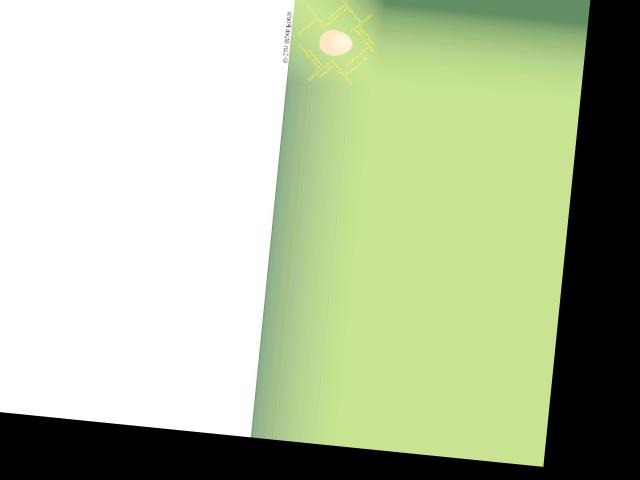egg: (318, 28, 353, 57)
